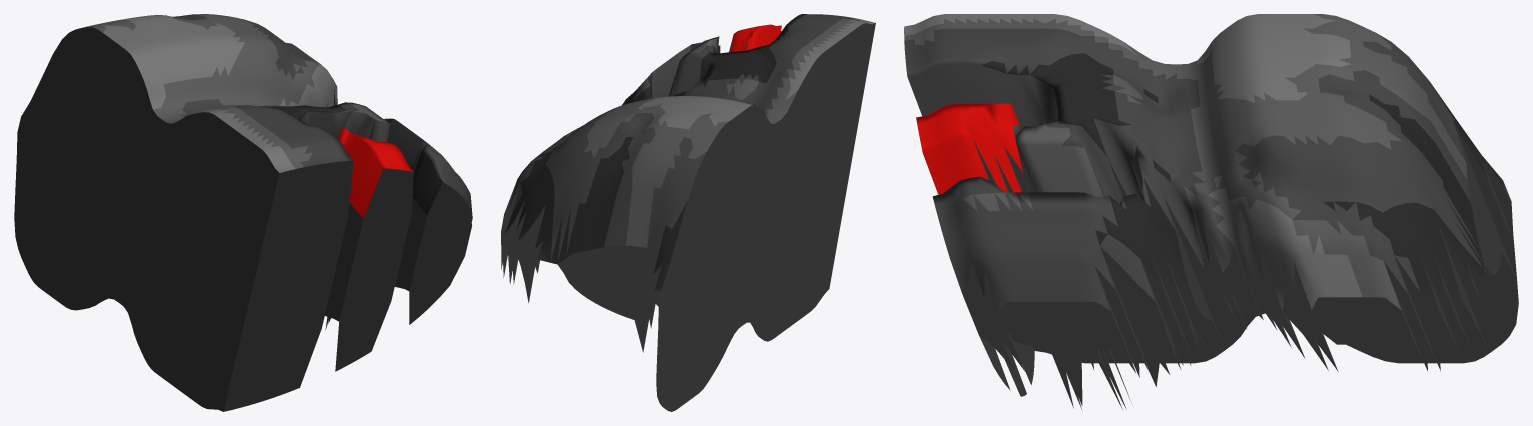
The model's file is grey_capsule_tr.glb.
3 views of the same model, side by side, from view 1: azimuth 30°, elevation 25°; view 2: azimuth 150°, elevation 25°; view 3: azimuth 270°, elevation 25° (orthographic). The views are drawn at different scales.
Visible parts, largest first — view 1: grey_capsule_tr; view 2: grey_capsule_tr; view 3: grey_capsule_tr.
Boxes of the visible parts, left/top/right/bottom form: grey_capsule_tr: left=14, top=14, right=472, bottom=411; grey_capsule_tr: left=501, top=14, right=875, bottom=411; grey_capsule_tr: left=904, top=14, right=1518, bottom=409.
Size of the model in its own units: 14 by 17.23 by 27.47.
